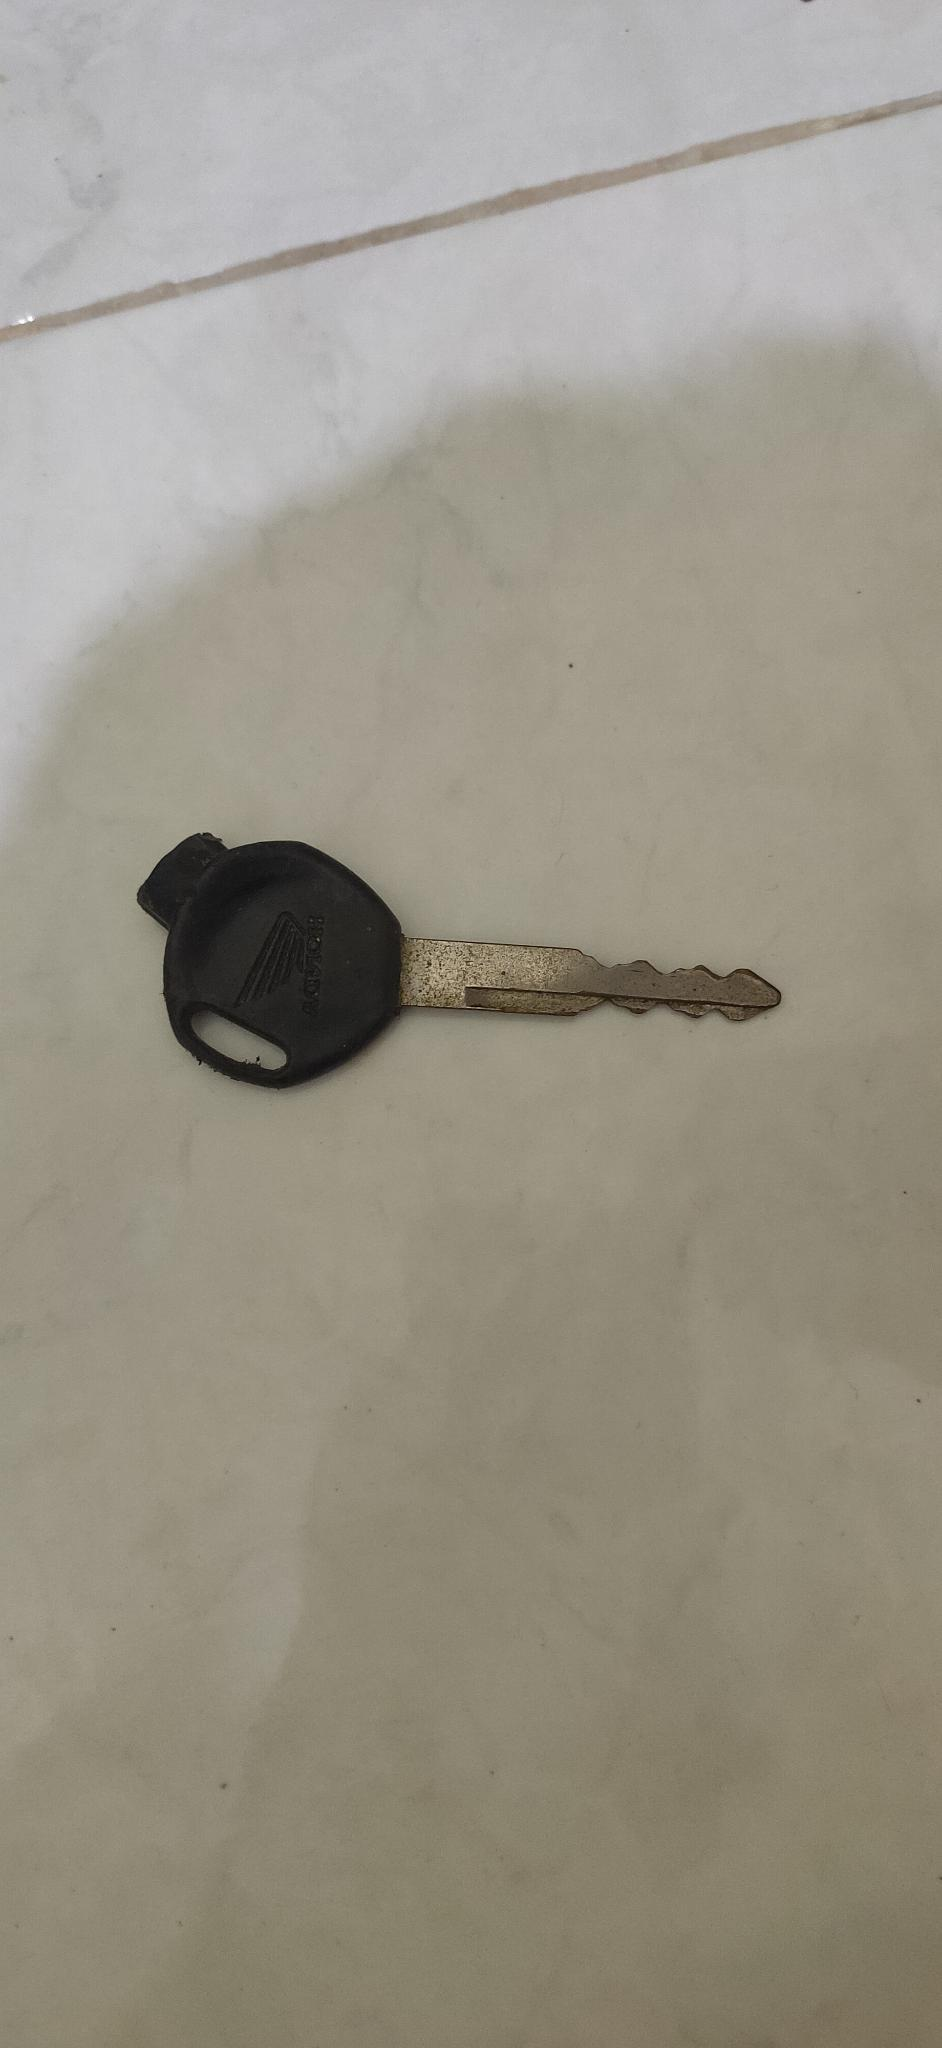keys: (123, 810, 797, 1142)
